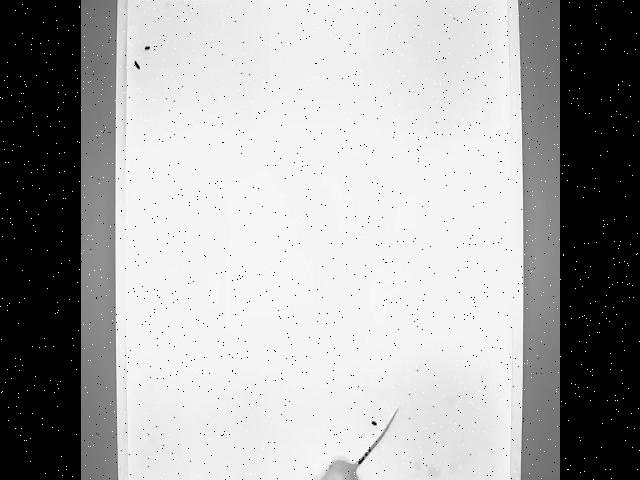Tikus: (310, 408, 396, 480)
